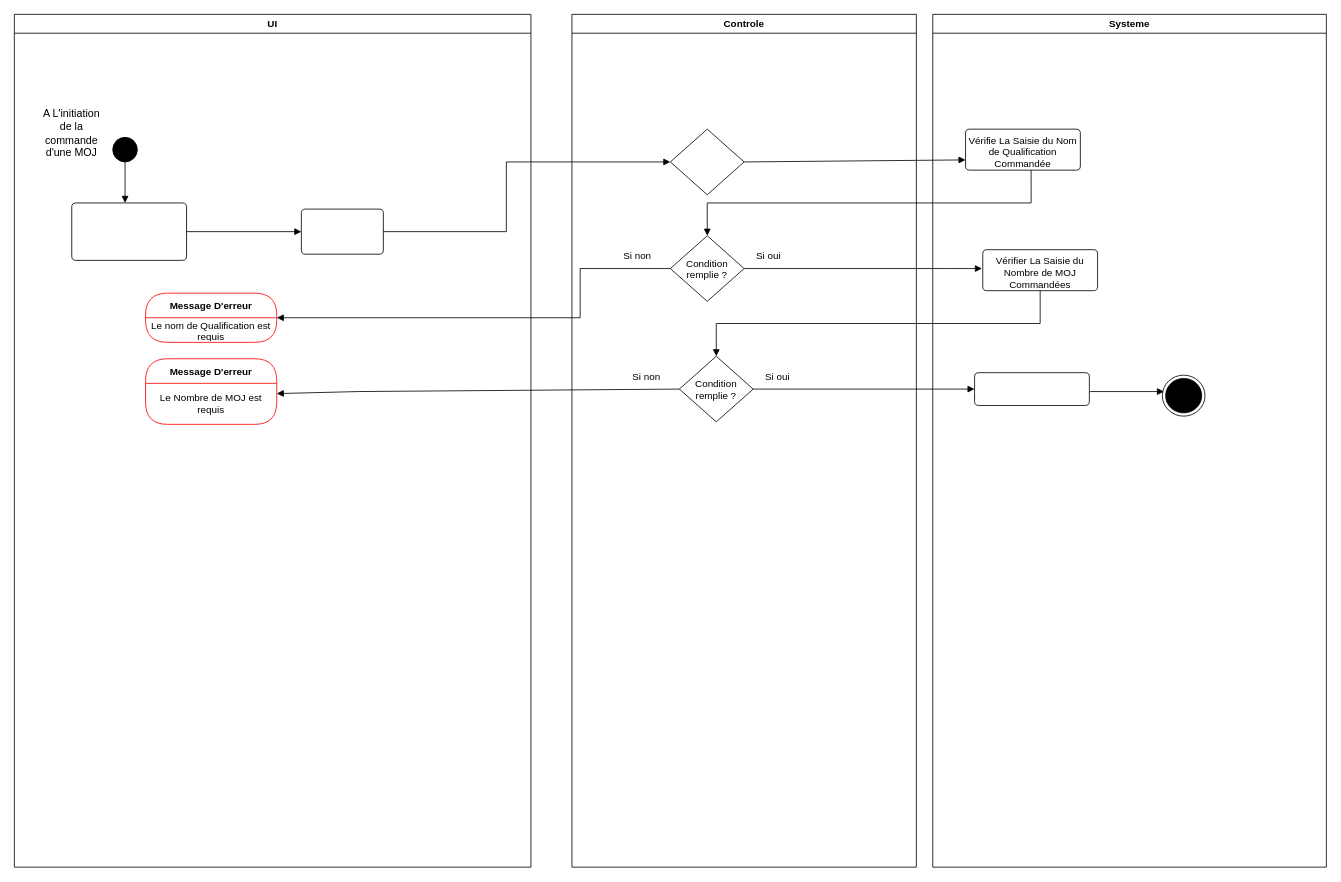
Image size: 1341x882. Some labels were removed from this diagram. Here are the shapes that lost their labels. From the top down, the centre of each, then its label:
At (x=707, y=161): "Action Ajouter ?".
At (x=129, y=231): "Remplir le Formulaire de Commande de la MOJ".
At (x=342, y=231): "Clique Ajouter".
At (x=1031, y=388): "Enregistrer La Commande".
